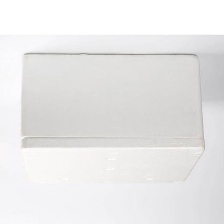foam_box: (12, 46, 212, 192)
